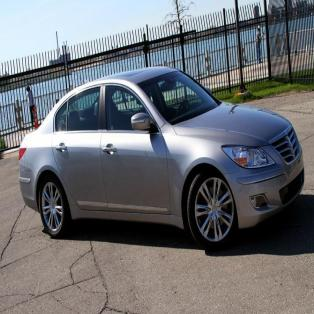Auto: (16, 61, 307, 259)
